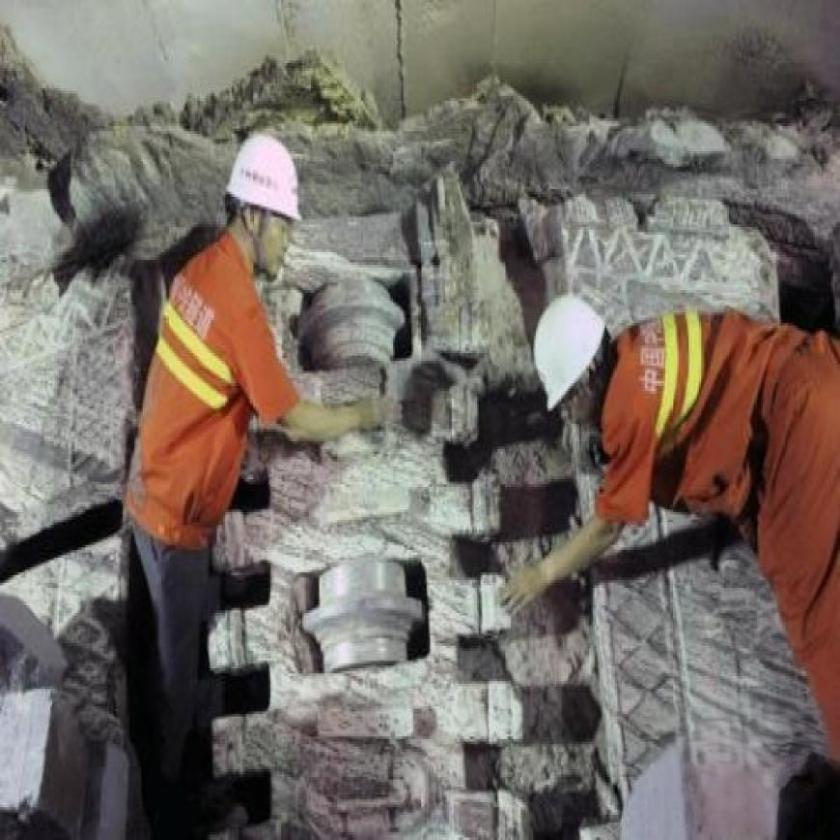Con_casco: (210, 79, 338, 316), (505, 278, 605, 429)
